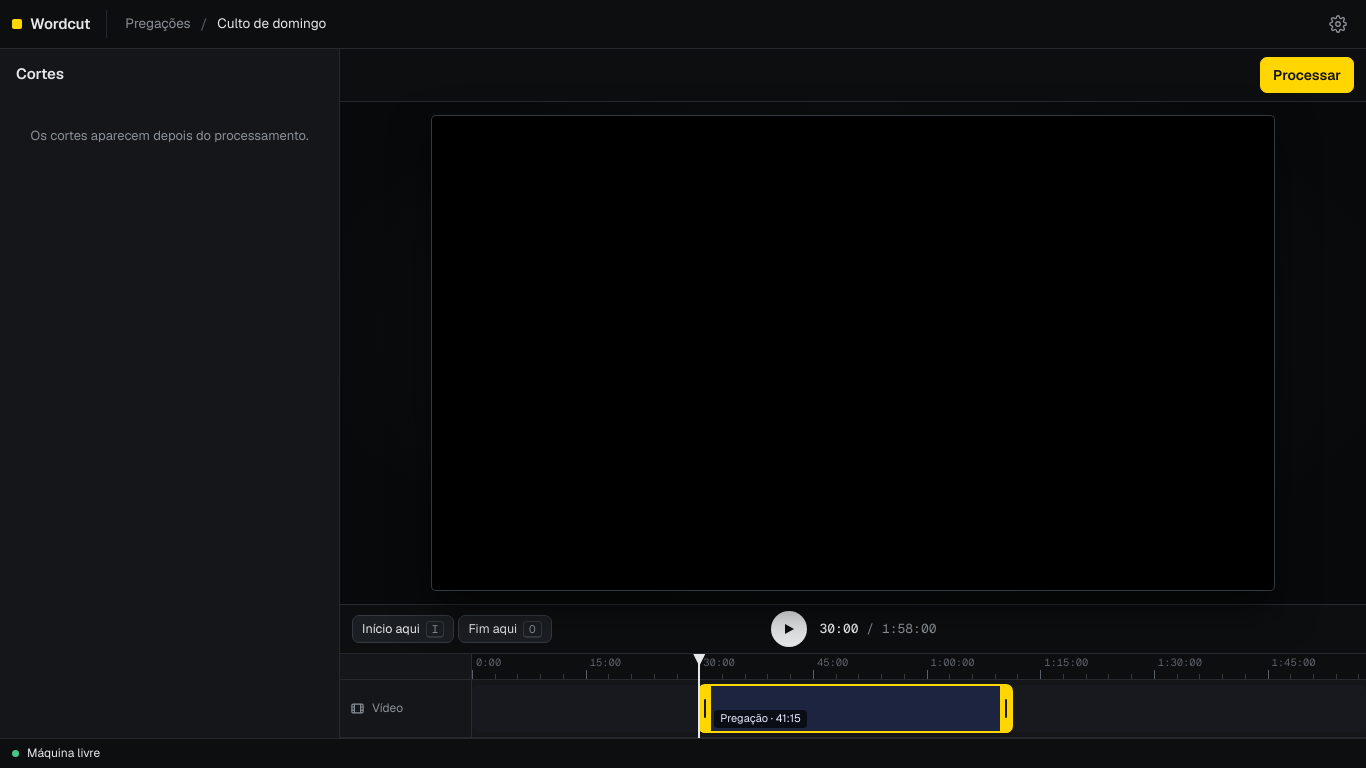
Scenario: shows why the borders were not saved and puts them back: {"status":409,"body":{"error":{"code":"sermon_too_short","message":"A pregação precisa ter pelo menos 6
Step 1. Press the mouse on the slider named "Início da pregação" → (705, 708), box [699,684,711,732]
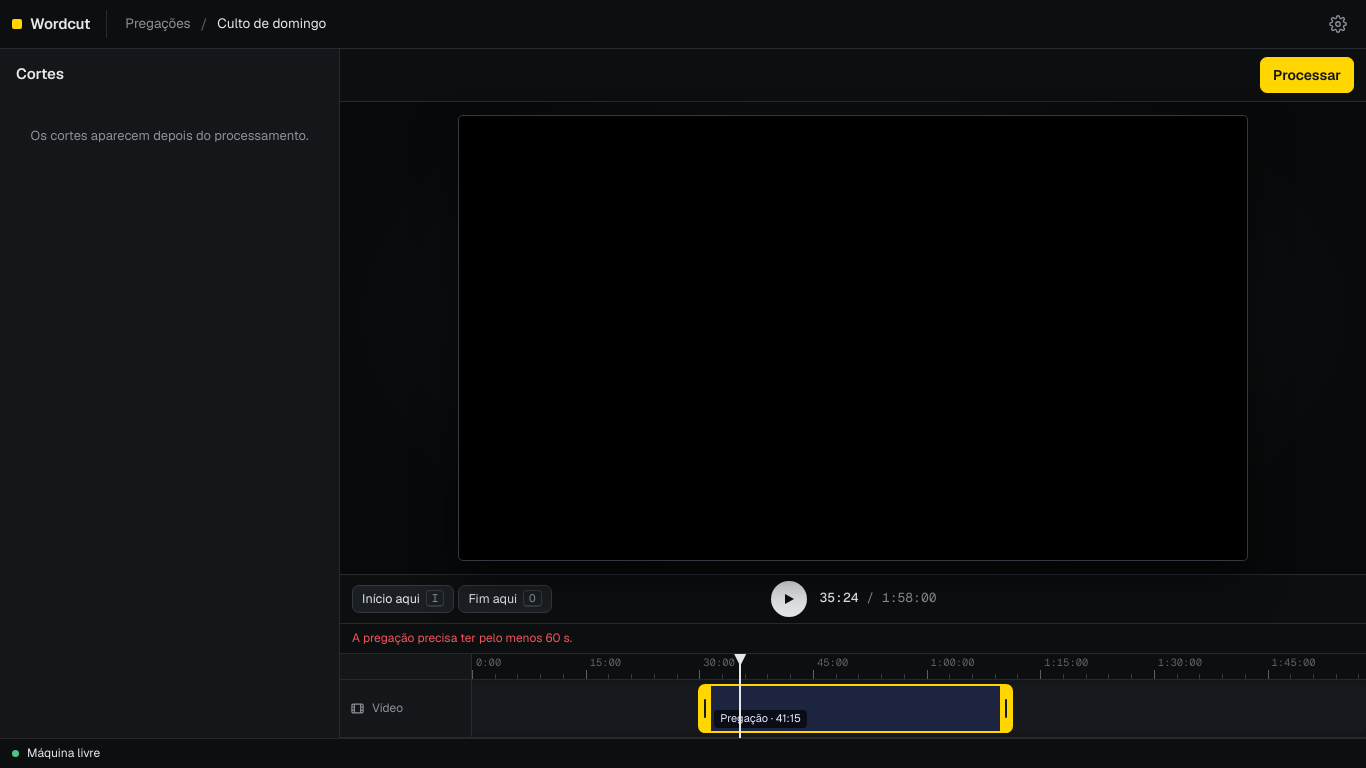
Expected: the text "A pregação precisa ter pelo menos 60 s." is shown, [340,623,1365,653]
